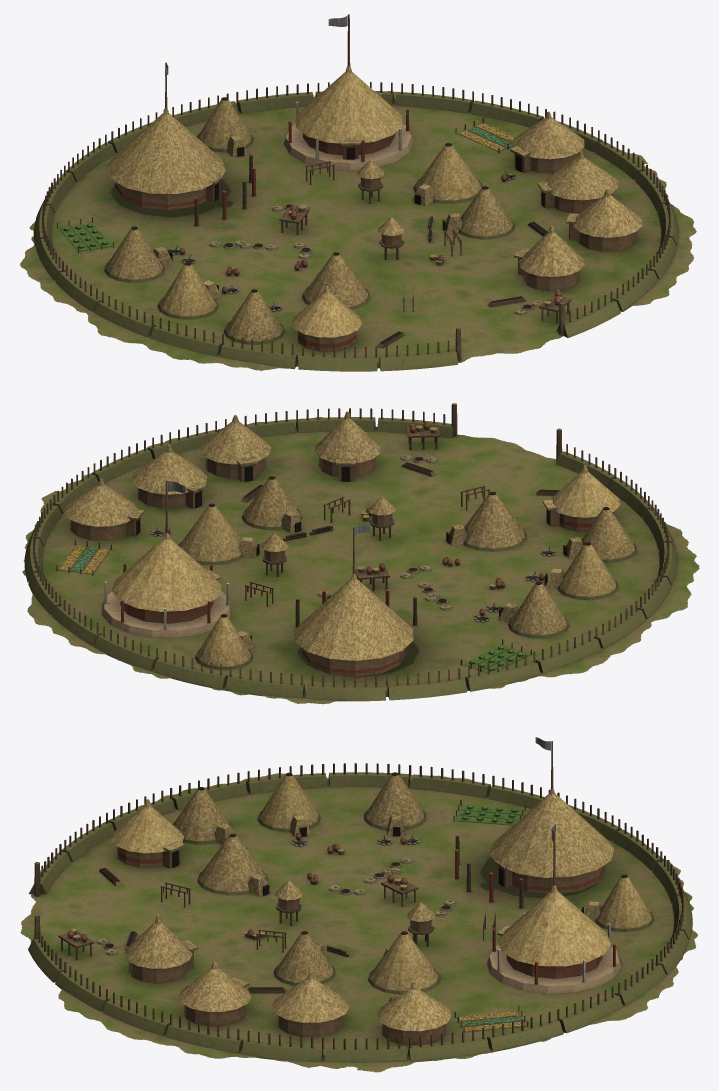
The model's file is stone-town-medium-b-korea.glb.
The picture shows the model from 3 angles, top to bottom: view 1: azimuth 30°, elevation 25°; view 2: azimuth 150°, elevation 25°; view 3: azimuth 270°, elevation 25°; orthographic projection. The views are drawn at different scales.
Visible parts, largest first — view 1: LOD0; view 2: LOD0; view 3: LOD0.
Boxes of the visible parts, box(x1,y1,x2,y2) form: LOD0: box(20, 14, 696, 371); LOD0: box(22, 403, 699, 704); LOD0: box(20, 737, 697, 1072).
Size of what is drawn, in the model's own units: 5.98 by 1.25 by 5.72.
Materials: 3 (3 with a texture image).
